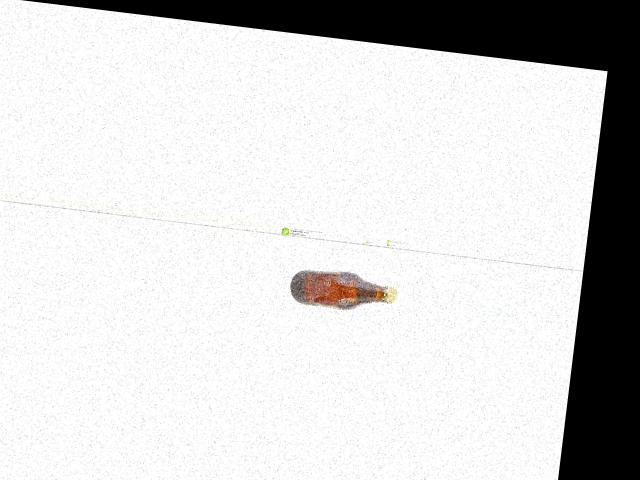beer: (289, 265, 399, 315)
